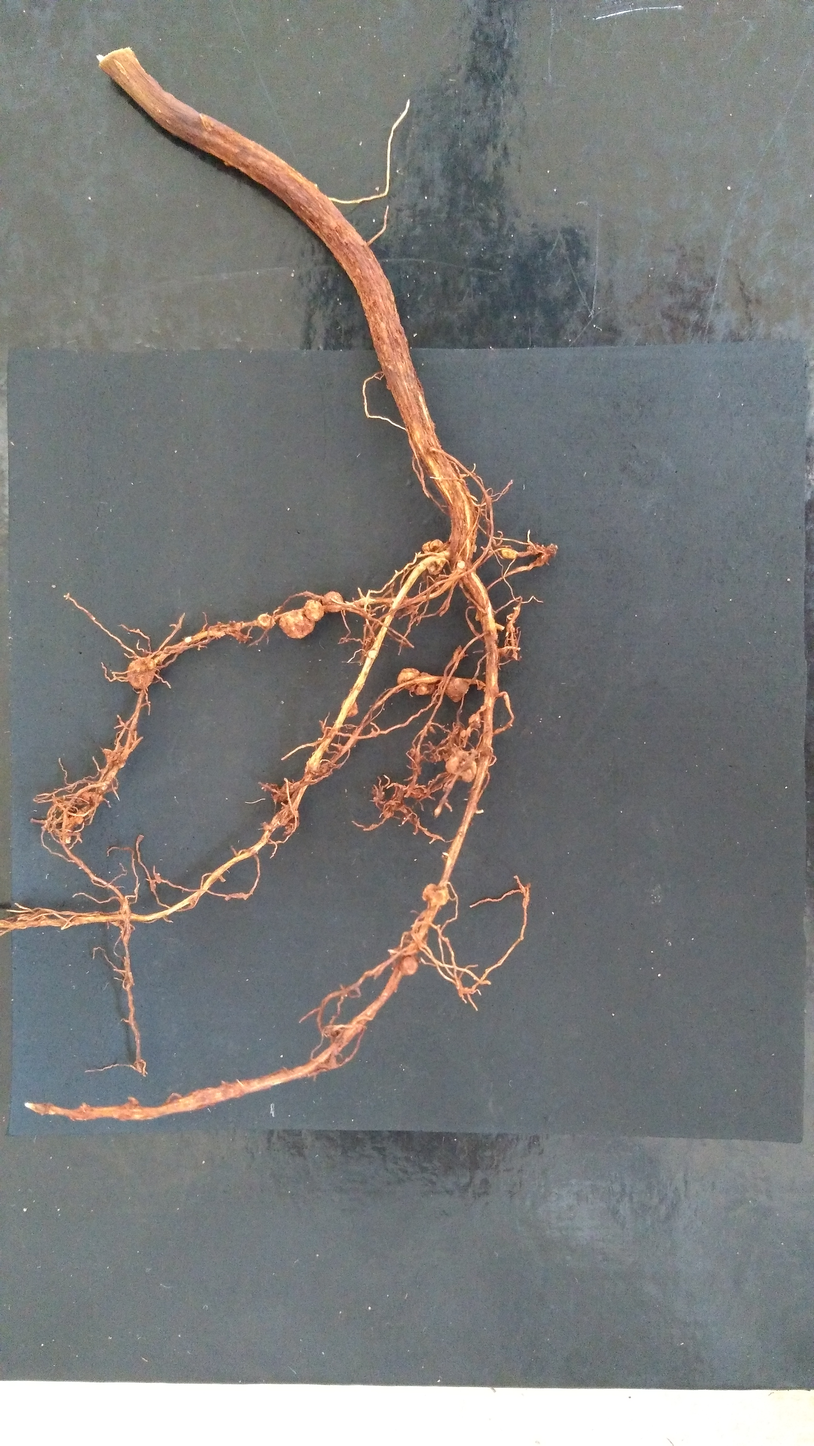nodule: (444, 748, 478, 781), (398, 668, 438, 696), (279, 609, 316, 639), (126, 657, 156, 689), (422, 540, 446, 574), (390, 947, 418, 976), (442, 676, 469, 702), (422, 883, 450, 907), (321, 590, 344, 612), (273, 782, 294, 804), (305, 598, 324, 621), (341, 698, 358, 717), (257, 612, 275, 629), (102, 748, 120, 763), (82, 790, 102, 803), (500, 546, 518, 560), (401, 603, 419, 616), (469, 712, 481, 729), (453, 645, 465, 661), (546, 543, 558, 558), (527, 543, 541, 555), (75, 811, 86, 824), (506, 623, 516, 633), (459, 729, 467, 737), (487, 550, 494, 557), (373, 796, 379, 804)
